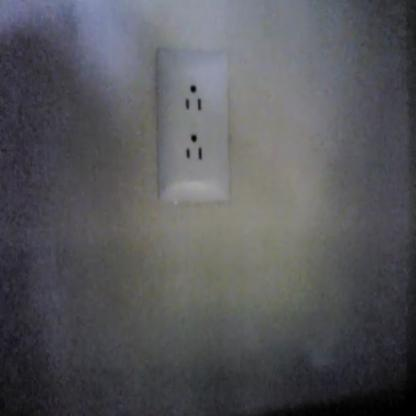OUTLET: (155, 50, 228, 206)
